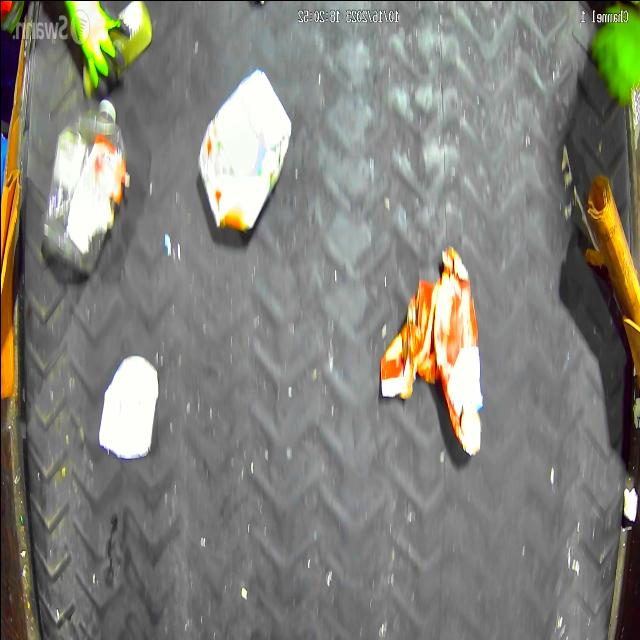milk_jug: (198, 68, 290, 232)
plastic_bottle: (40, 99, 126, 276)
